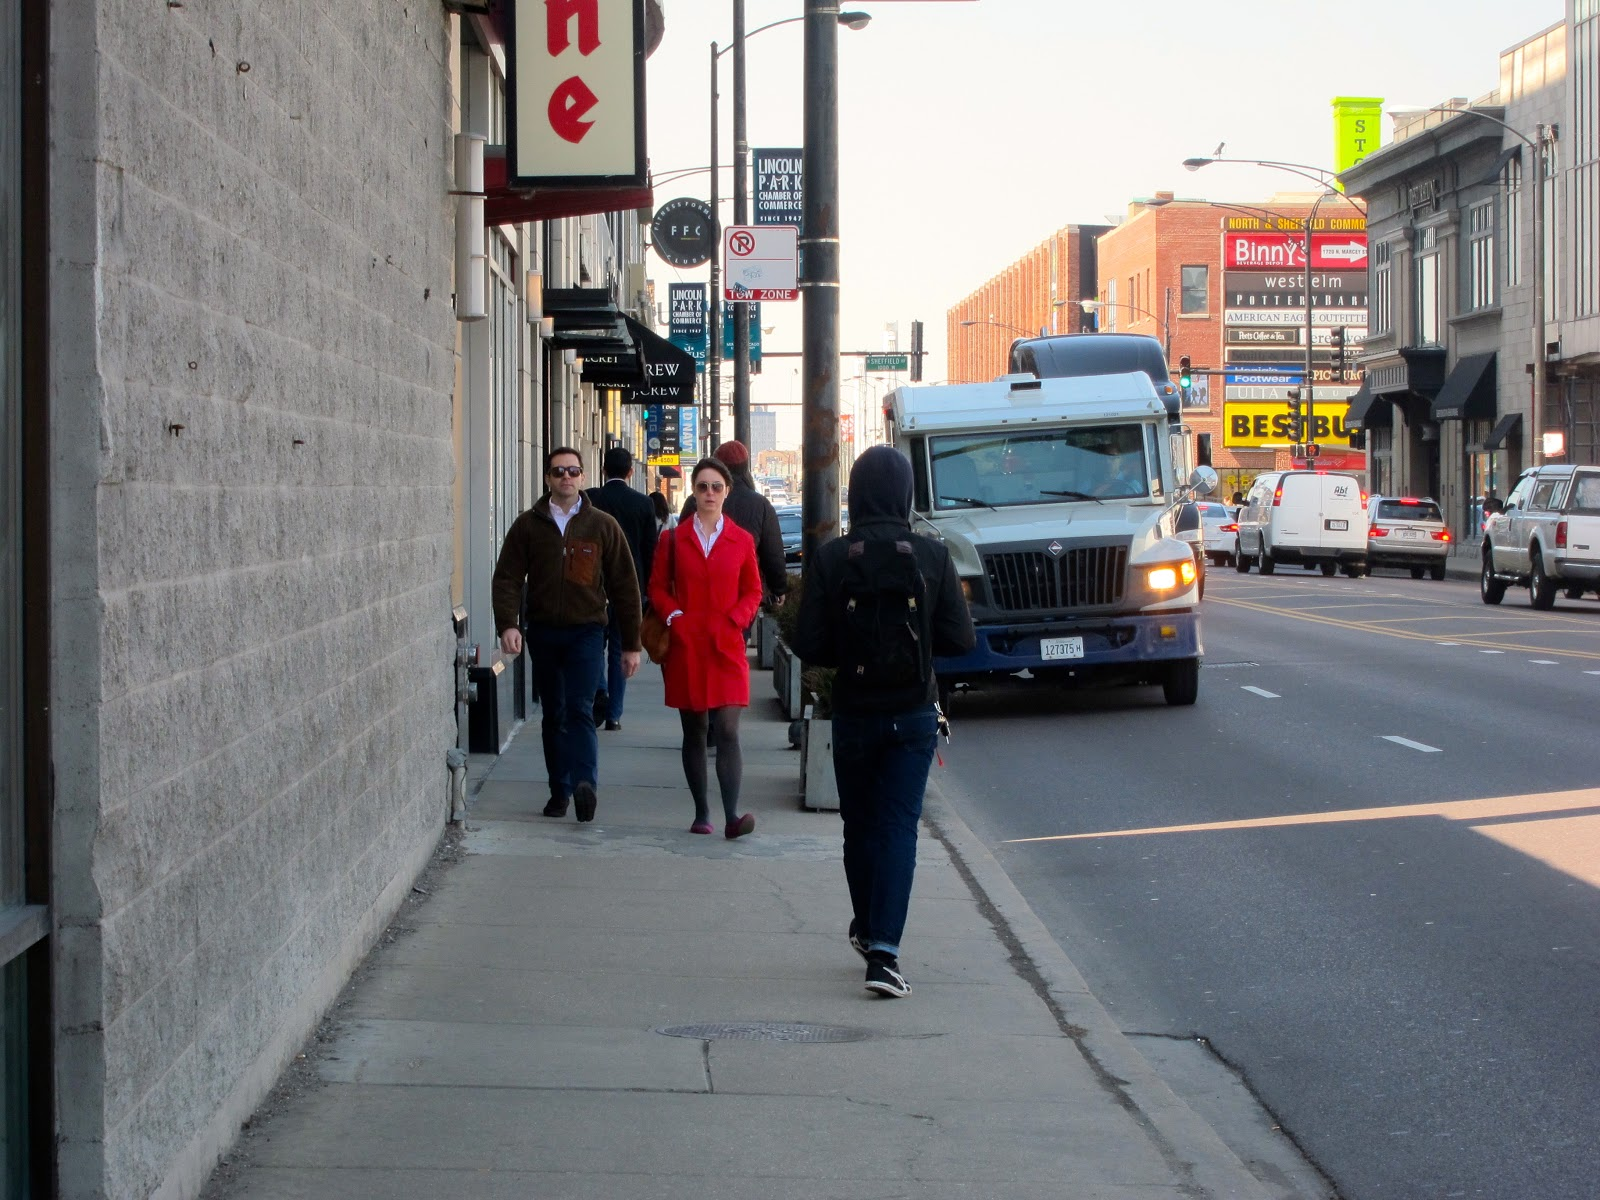car: (862, 363, 1221, 725), (1470, 451, 1600, 612), (1229, 457, 1386, 589), (1358, 483, 1459, 590)
person: (777, 436, 991, 1018), (480, 436, 650, 830), (630, 448, 783, 857)
